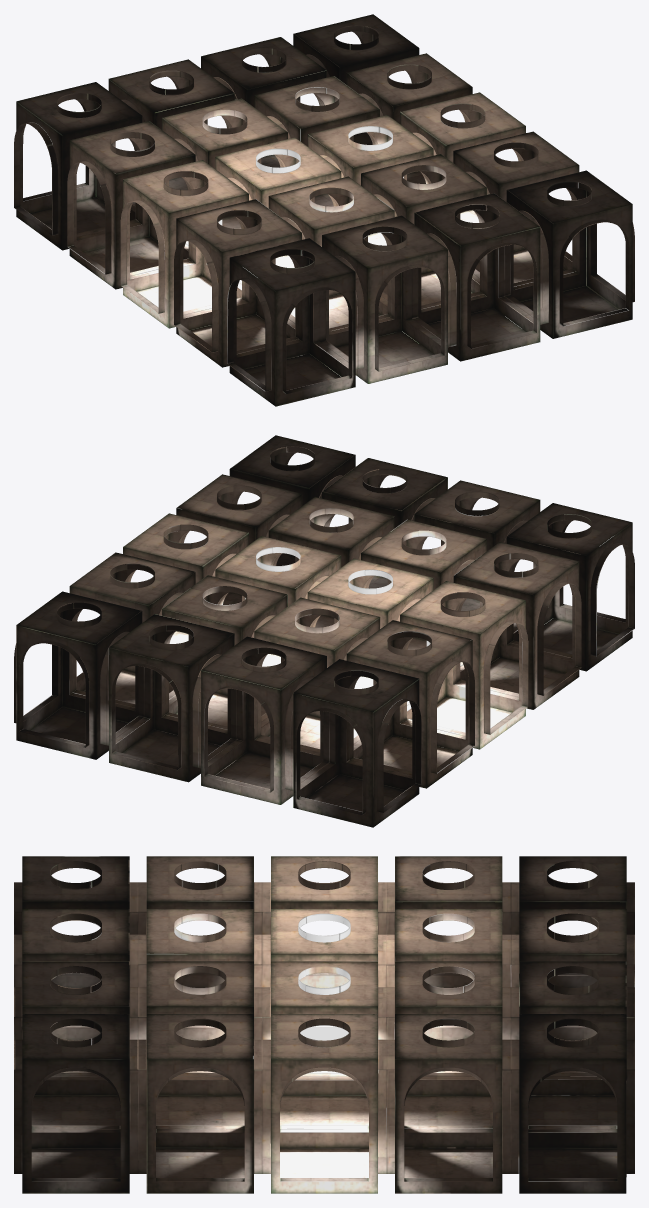
File: City.glb
The picture shows the model from 3 angles, top to bottom: view 1: azimuth 30°, elevation 25°; view 2: azimuth 150°, elevation 25°; view 3: azimuth 270°, elevation 25°; orthographic projection. The views are drawn at different scales.
Parts seen in each view (by area): view 1: Cube_0; view 2: Cube_0; view 3: Cube_0.
Boxes of the visible parts, left/top/right/bottom form: Cube_0: left=14, top=14, right=634, bottom=406; Cube_0: left=14, top=435, right=634, bottom=827; Cube_0: left=14, top=856, right=634, bottom=1193.
Size of the model in its own units: 30.09 by 9.45 by 37.61.
1 material, 1 textured.
